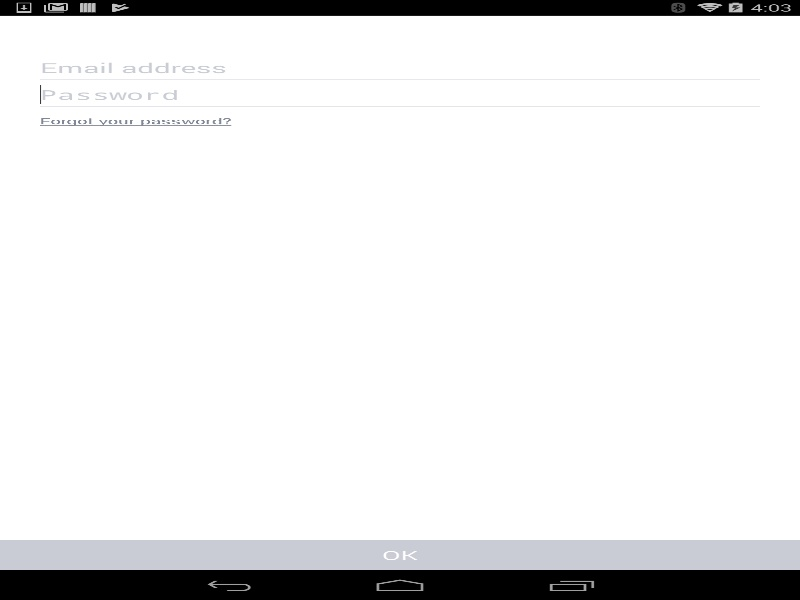Button: (0, 540, 800, 570)
Input: (40, 54, 760, 79), (40, 81, 760, 106)
